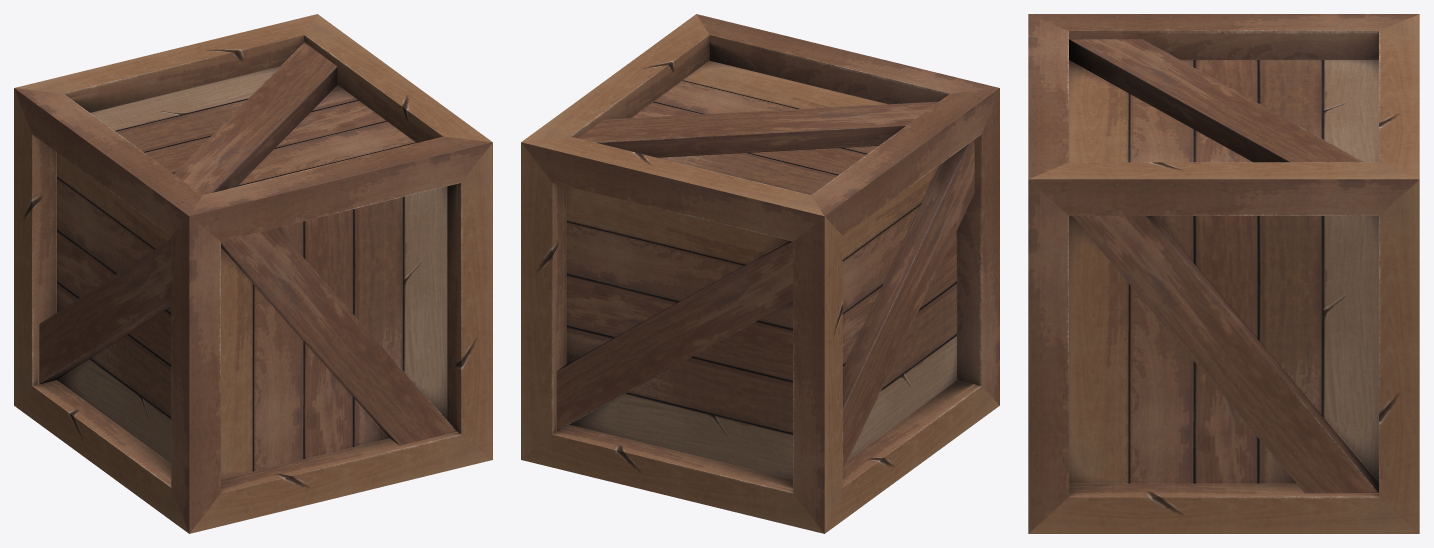
Rendered from Crate.FBX.
3 renders of one model, left to right at view 1: azimuth 30°, elevation 25°; view 2: azimuth 150°, elevation 25°; view 3: azimuth 270°, elevation 25°, orthographic. The views are drawn at different scales.
Parts seen in each view (by area): view 1: Crate; view 2: Crate; view 3: Crate.
Part boxes in pixels (left/top/right/bottom): Crate: left=14, top=14, right=492, bottom=533; Crate: left=521, top=14, right=999, bottom=533; Crate: left=1028, top=14, right=1419, bottom=533.
Size of the model in its own units: 59.06 by 59.06 by 59.06.
Materials: 1 (1 with a texture image).
